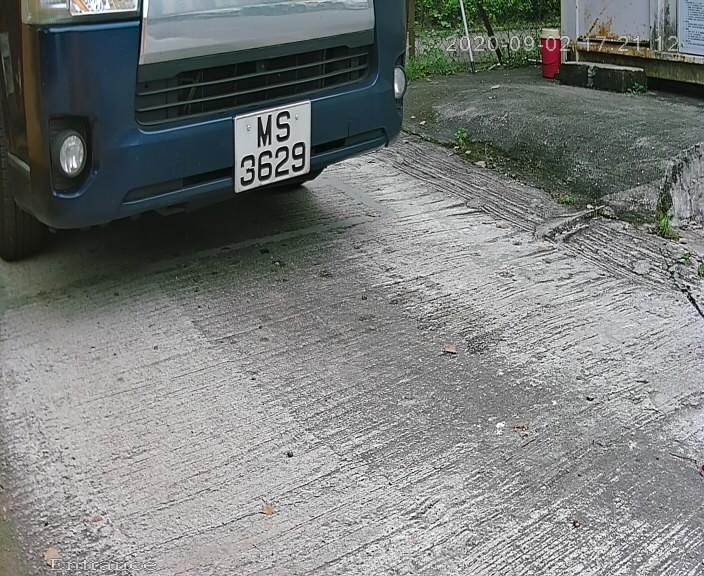Car: (23, 6, 453, 294)
License Plate: (224, 101, 321, 193)
